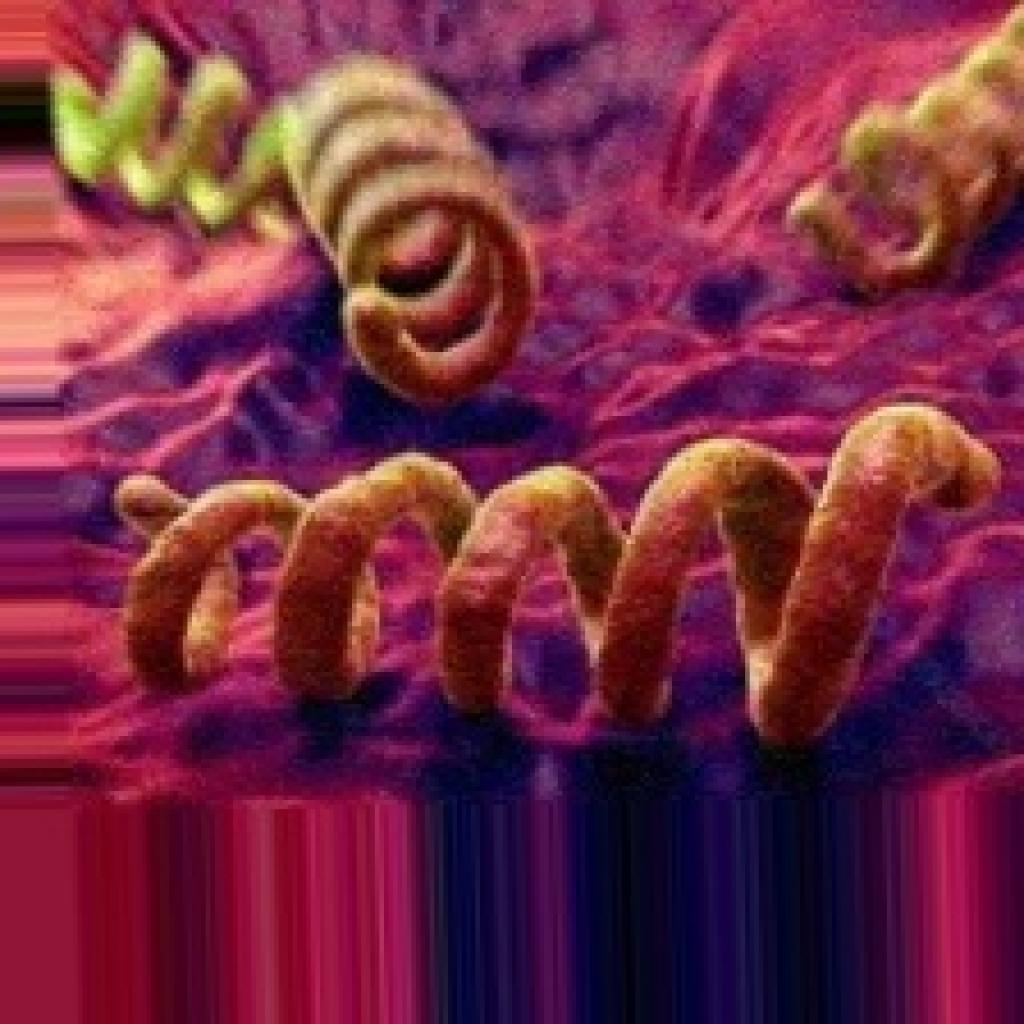Sprialbacteria: (110, 398, 1006, 754), (782, 0, 1019, 297)
